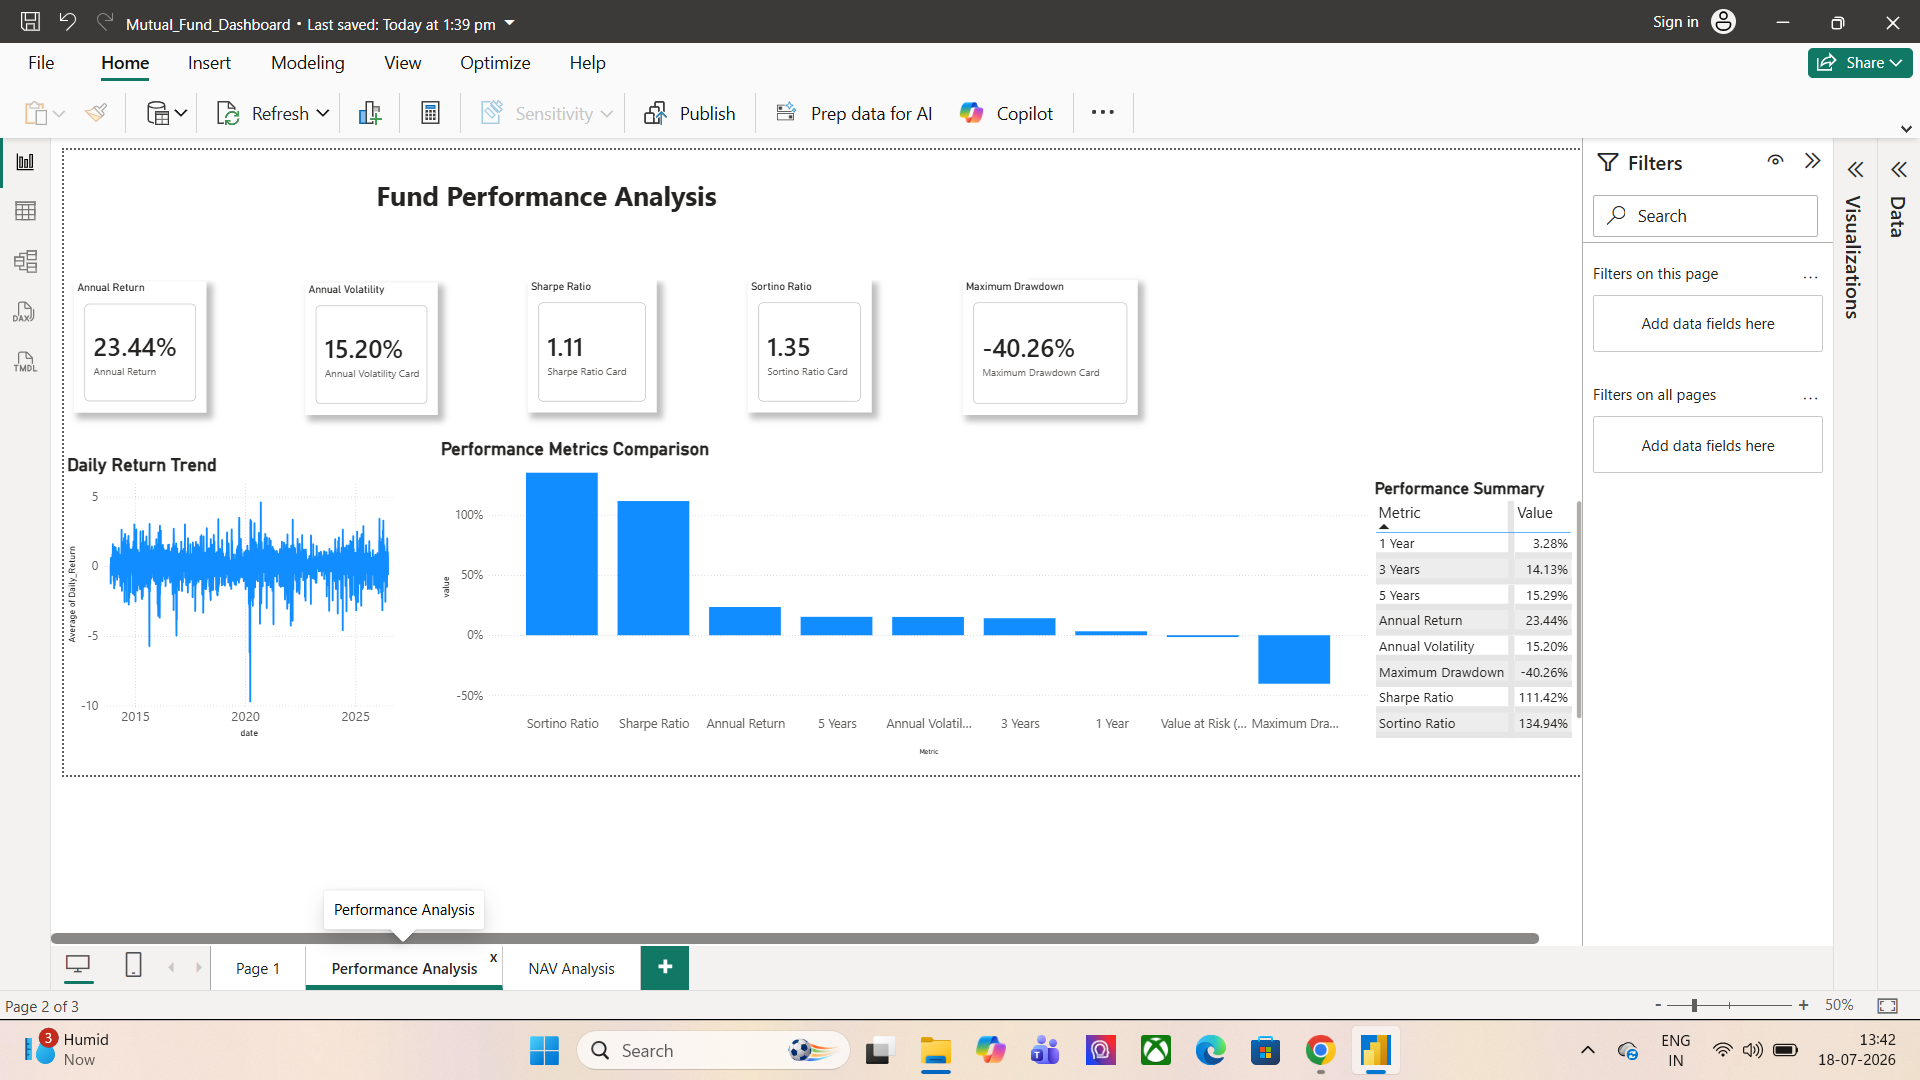

The page's visual inventory and layout, read from the dashboard file:
{"tool":"powerbi","page":{"name":"Performance Analysis","canvas":[2500,1000],"ordinal":1},"visuals":[{"type":"cardVisual","title":"Annual Return","fields":{"Data":["Date_Table.Annual Return Card"]},"box":[16,210,212,210],"z":0},{"type":"cardVisual","title":"Sharpe Ratio","fields":{"Data":["Date_Table.Sharpe Ratio Card"]},"box":[742,208,206,212],"z":1000},{"type":"cardVisual","title":"Maximum Drawdown","fields":{"Data":["Date_Table.Maximum Drawdown Card"]},"box":[1438,208,280,216],"z":2000},{"type":"tableEx","title":"Performance Summary","fields":{"Values":["performance_summary.Metric","performance_summary.Value"]},"box":[2092,526,342,420],"z":3000},{"type":"clusteredColumnChart","title":"Performance Metrics Comparison","fields":{"Category":["performance_summary.Metric"],"Y":["Sum(performance_summary.Value)"]},"box":[598,460,1494,514],"z":4000},{"type":"cardVisual","title":"Annual Volatility","fields":{"Data":["Date_Table.Annual Volatility Card"]},"box":[386,212,212,212],"z":5000},{"type":"lineChart","title":"Daily Return Trend","fields":{"Category":["processed_nav_data.date"],"Y":["Avg(processed_nav_data.Daily_Return)"]},"box":[0,486.7,546.7,460],"z":6000},{"type":"cardVisual","title":"Sortino Ratio","fields":{"Data":["performance_summary.Sortino Ratio Card"]},"box":[1094,208,198,212],"z":7000},{"type":"textbox","box":[0,38.3,1543.3,170],"z":8000}]}

Visuals, with their boxes on the page's 2500x1000 design canvas (x1, y1, x2, y2). These are canvas units, not pixel positions in the 1920x1080 screenshot, which may show the page scaled, cropped or inside an application window:
"Annual Return" cardVisual: 16 210 228 420
"Sharpe Ratio" cardVisual: 742 208 948 420
"Maximum Drawdown" cardVisual: 1438 208 1718 424
"Performance Summary" tableEx: 2092 526 2434 946
"Performance Metrics Comparison" clusteredColumnChart: 598 460 2092 974
"Annual Volatility" cardVisual: 386 212 598 424
"Daily Return Trend" lineChart: 0 487 547 947
"Sortino Ratio" cardVisual: 1094 208 1292 420
textbox: 0 38 1543 208
